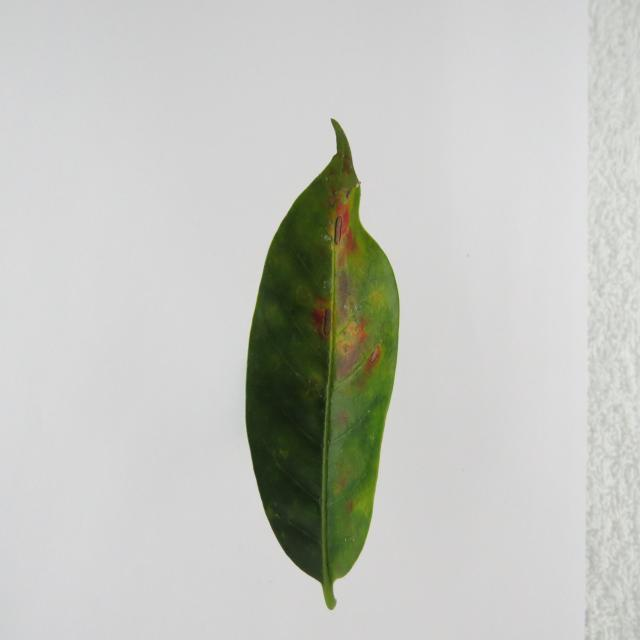DeficienciaNutricional-Fosforo: (246, 120, 399, 610)
